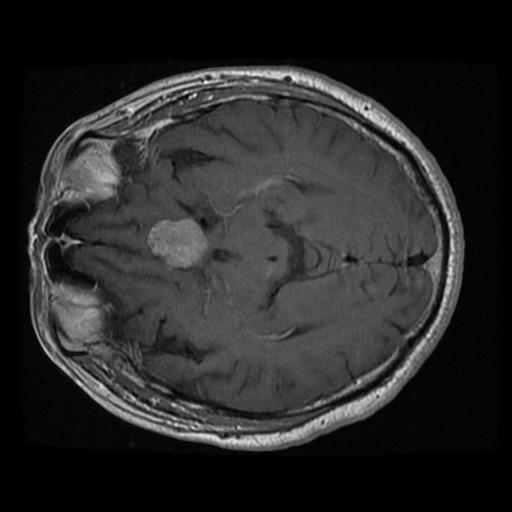pituitary tumour: (147, 219, 206, 266)
